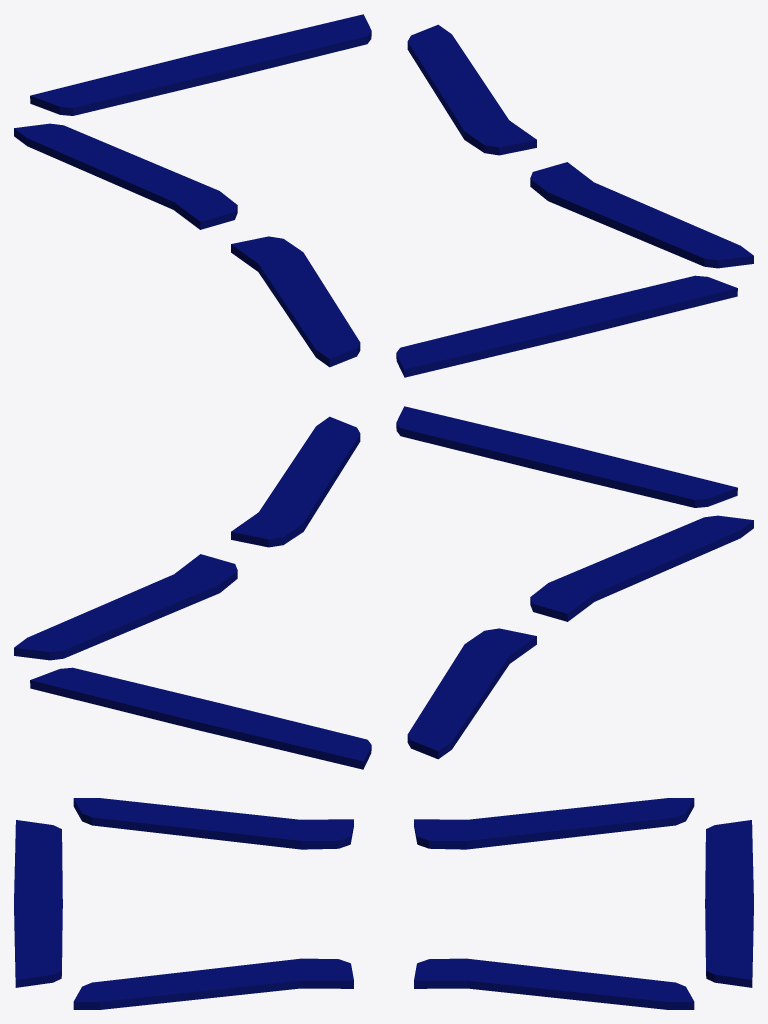
The model's file is table_custom_walls.glb.
The picture shows the model from 3 angles, top to bottom: view 1: azimuth 30°, elevation 25°; view 2: azimuth 150°, elevation 25°; view 3: azimuth 270°, elevation 25°; orthographic projection.
Parts seen in each view (by area): view 1: Cube.003; view 2: Cube.003; view 3: Cube.003.
Part boxes in pixels (x1=…): Cube.003: x1=14, y1=14, x2=753, y2=377; Cube.003: x1=14, y1=406, x2=753, y2=769; Cube.003: x1=14, y1=798, x2=753, y2=1009.
Size of the model in its own units: 9.58 by 0.1863 by 14.69.
